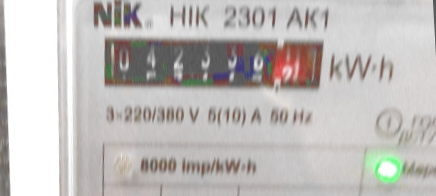0: (116, 44, 131, 73)
2: (169, 43, 188, 70)
3: (195, 41, 213, 71), (224, 41, 240, 69)
4: (142, 43, 160, 71)
6: (250, 45, 266, 73)
screen: (91, 16, 335, 109)
